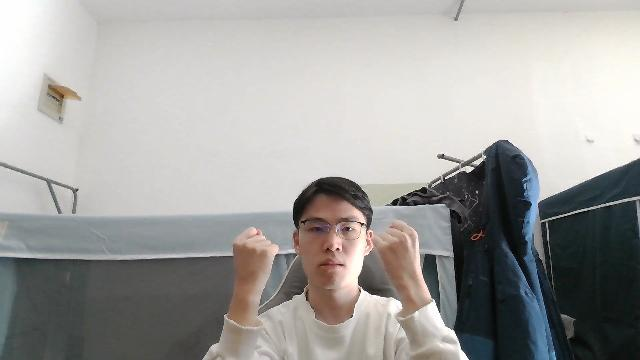ten: (367, 216, 427, 294), (229, 225, 281, 292)
